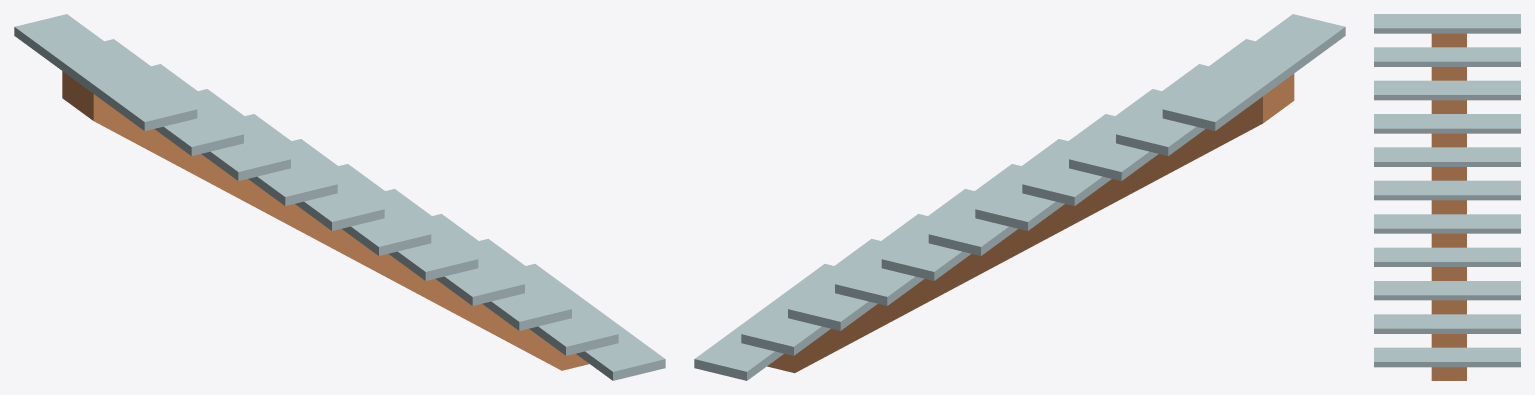
File: stairs_open_single.glb
3 views of the same model, side by side, from view 1: azimuth 30°, elevation 25°; view 2: azimuth 150°, elevation 25°; view 3: azimuth 270°, elevation 25° (orthographic). The views are drawn at different scales.
Parts seen in each view (by area): view 1: stairsOpenSingle_1, Group; view 2: stairsOpenSingle_1, Group; view 3: stairsOpenSingle_1, Group.
Boxes of the visible parts, x1,y1,x2,y2 form: stairsOpenSingle_1: [14, 14, 665, 380]; Group: [62, 71, 589, 370]; stairsOpenSingle_1: [694, 14, 1345, 380]; Group: [767, 74, 1294, 373]; stairsOpenSingle_1: [1374, 14, 1520, 367]; Group: [1431, 33, 1466, 380].
Bounding box in the file's own units: 1.82 × 1.34 × 0.79.
